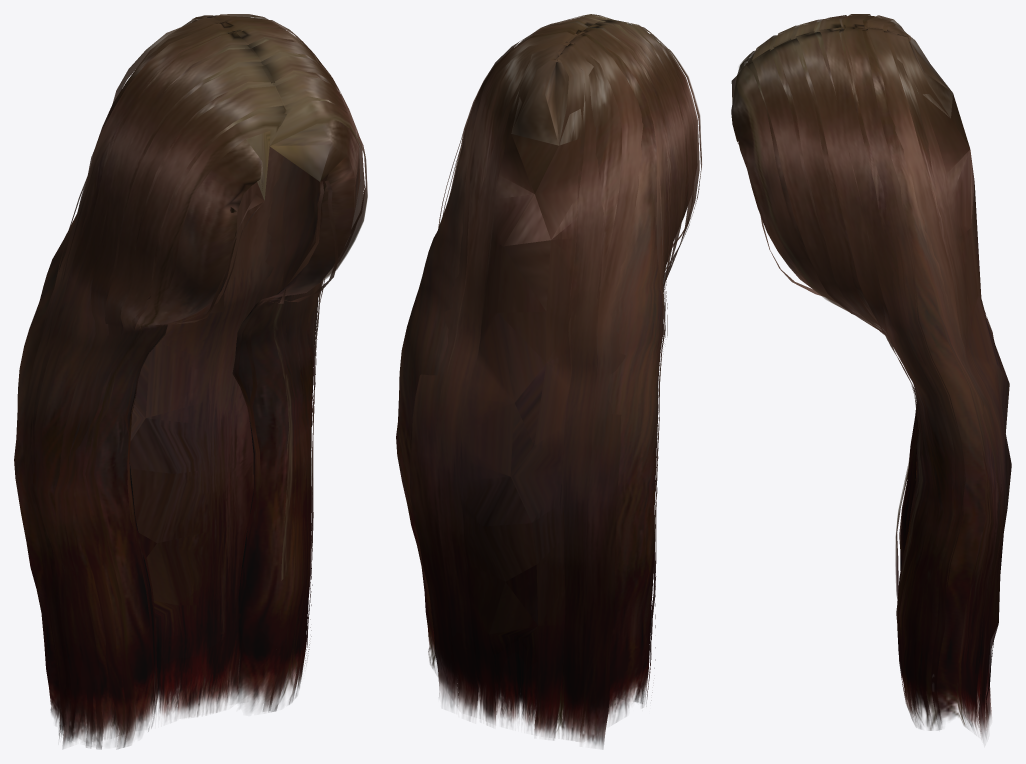
File: long-african.glb
3 views of the same model, side by side, from view 1: azimuth 30°, elevation 25°; view 2: azimuth 150°, elevation 25°; view 3: azimuth 270°, elevation 25° (orthographic). The views are drawn at different scales.
Parts seen in each view (by area): view 1: hair_long; view 2: hair_long; view 3: hair_long.
Boxes of the visible parts, x1=… form: hair_long: x1=14, y1=14, x2=367, y2=749; hair_long: x1=396, y1=14, x2=701, y2=748; hair_long: x1=731, y1=14, x2=1011, y2=739.
Bounding box in the file's own units: 0.3109 × 0.7739 × 0.2864.
1 material, 1 textured.
